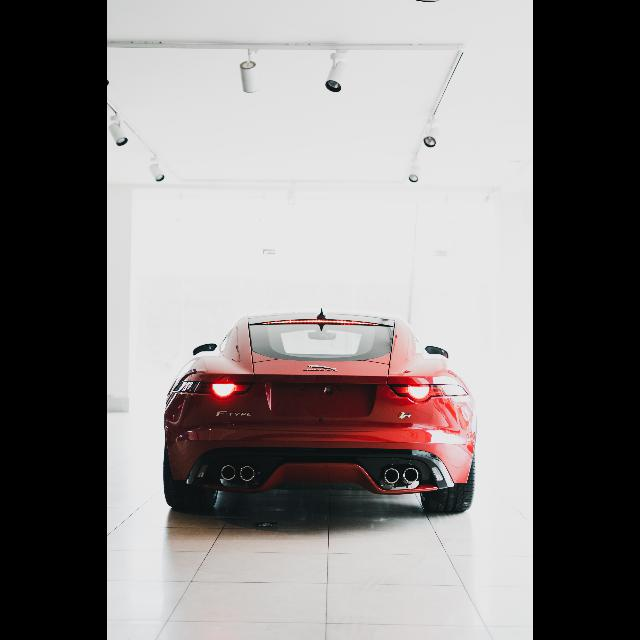cars: (157, 304, 481, 542)
